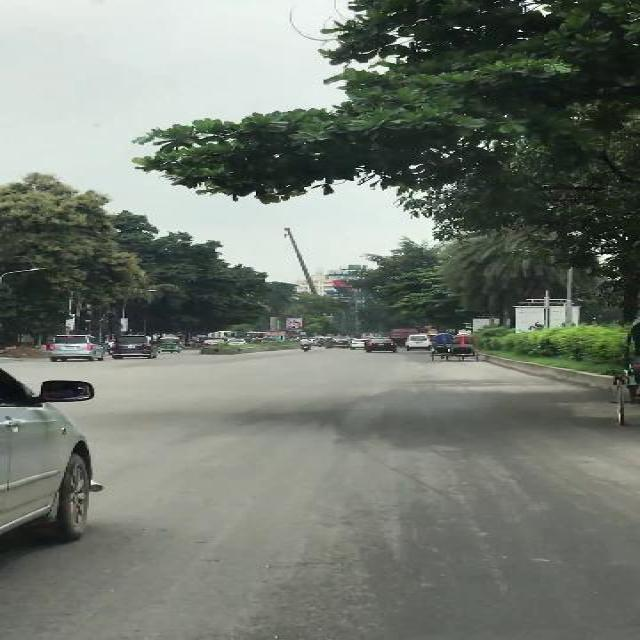car: (364, 338, 396, 352), (322, 338, 350, 348), (198, 338, 222, 348), (223, 338, 246, 344), (350, 339, 364, 346)
minivan: (404, 333, 432, 351)
motorbike: (297, 336, 311, 350)
rickshaw: (452, 333, 476, 361), (430, 334, 452, 361)
three wheelers -CNG-: (154, 337, 180, 353)
van: (48, 334, 105, 362), (110, 334, 156, 358)
